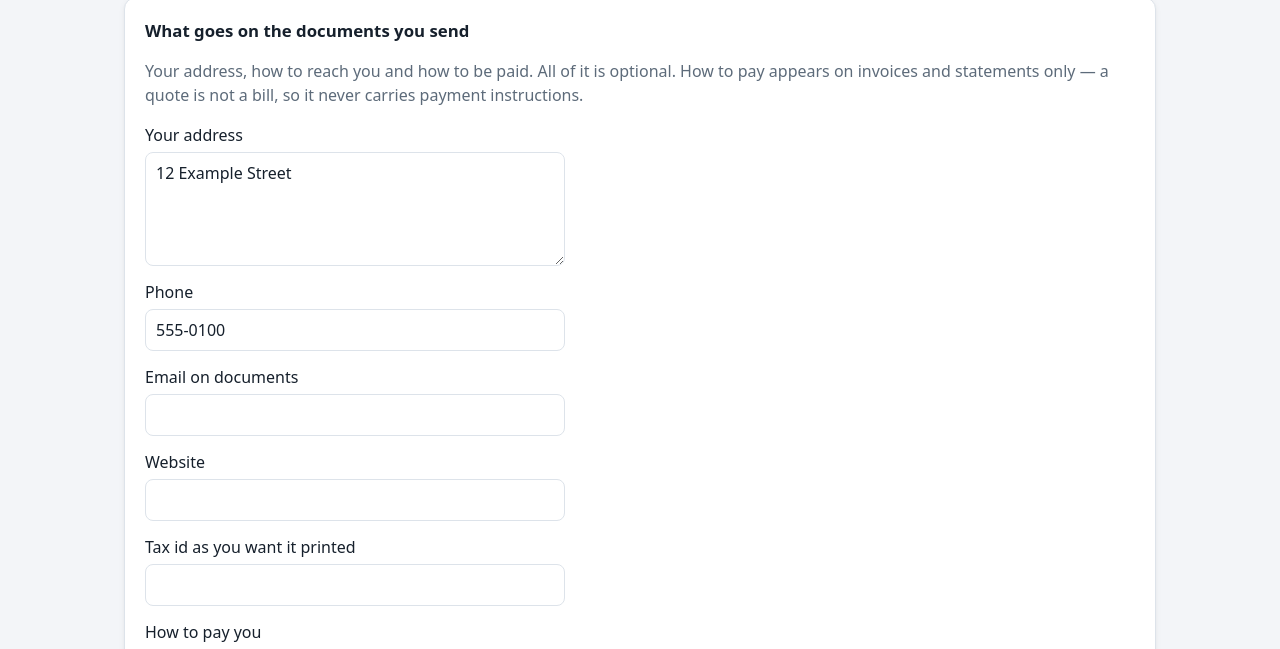
Test: the letterhead › what is saved comes back in the form and goes to the API
The image size is (1280, 649).
(page scrolled)
Expected: the text box labelled "Your address" holds "12 Example Street", top-left (145, 152), bottom-right (565, 266)
Replace the text in the field labelled "Phone" with "555-0199": (355, 330) top-left (145, 309), bottom-right (565, 351)
(page scrolled)
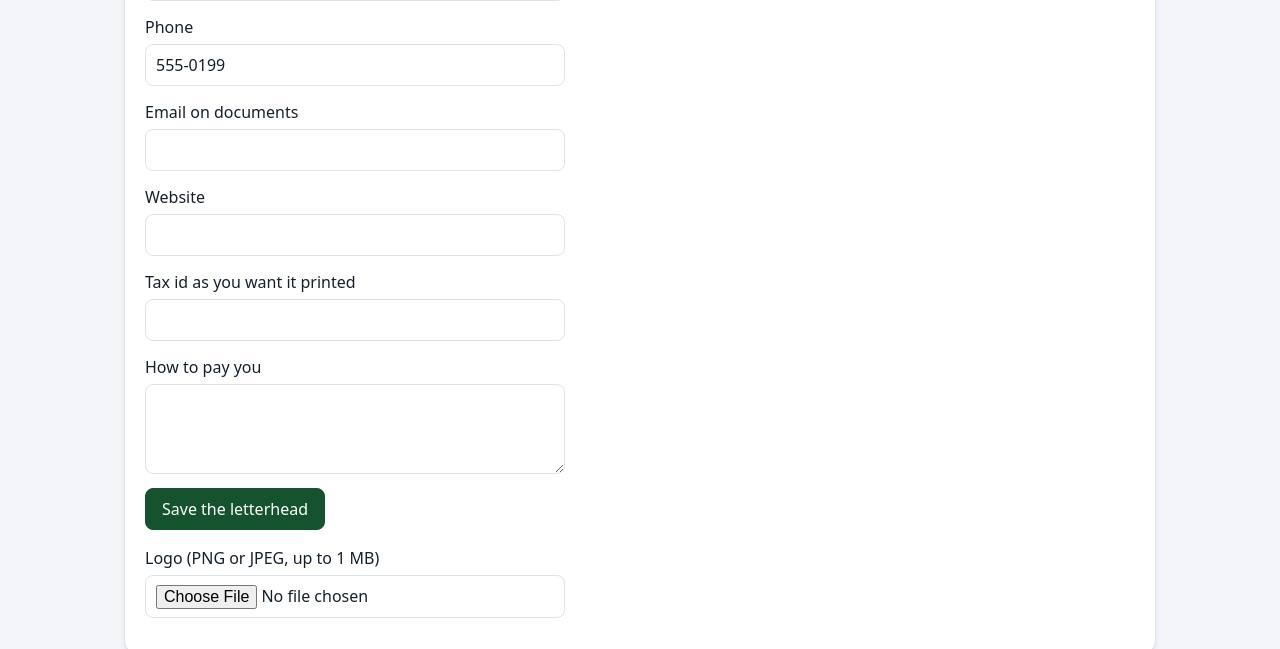
Click the button "Save the letterhead": (235, 509) top-left (145, 488), bottom-right (325, 530)
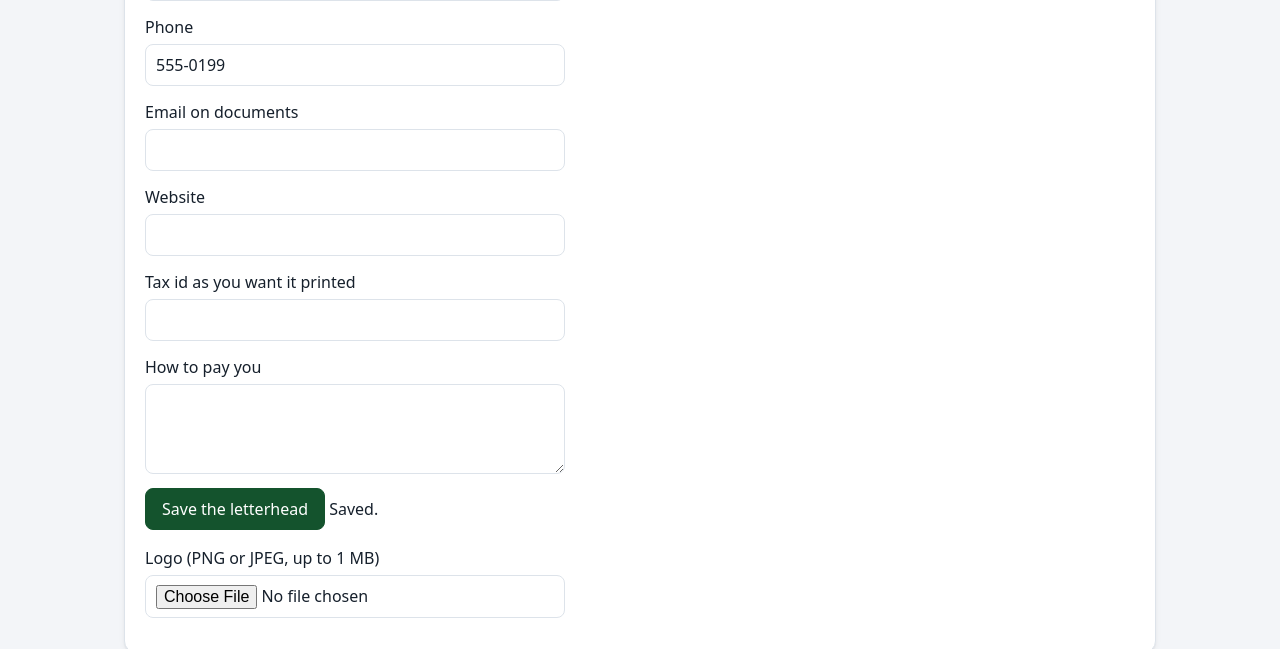
Now the text "Saved." is shown, box top-left (325, 498), bottom-right (378, 520)
